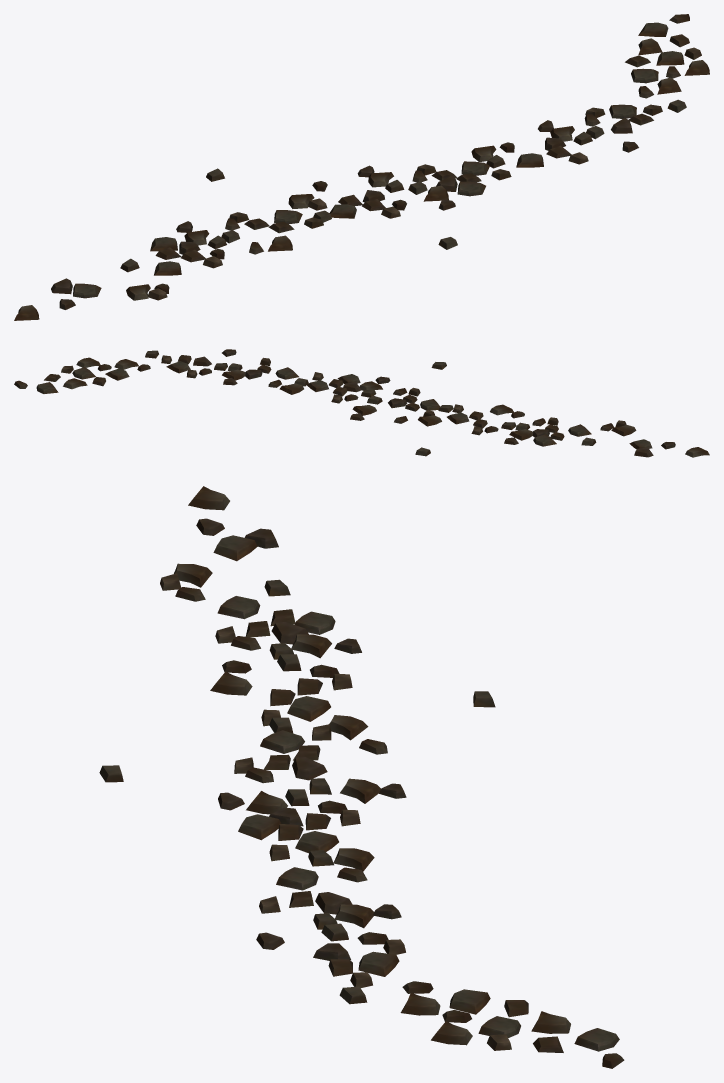
File: mesh_raid3_road.FBX
The picture shows the model from 3 angles, top to bottom: view 1: azimuth 30°, elevation 25°; view 2: azimuth 150°, elevation 25°; view 3: azimuth 270°, elevation 25°; orthographic projection. The views are drawn at different scales.
Parts seen in each view (by area): view 1: mesh_raid3_road; view 2: mesh_raid3_road; view 3: mesh_raid3_road.
Boxes of the visible parts, left/top/right/bottom form: mesh_raid3_road: left=14, top=14, right=709, bottom=320; mesh_raid3_road: left=14, top=349, right=709, bottom=457; mesh_raid3_road: left=99, top=486, right=624, bottom=1068.
Bounding box in the file's own units: 29.06 × 0.3027 × 11.13.
